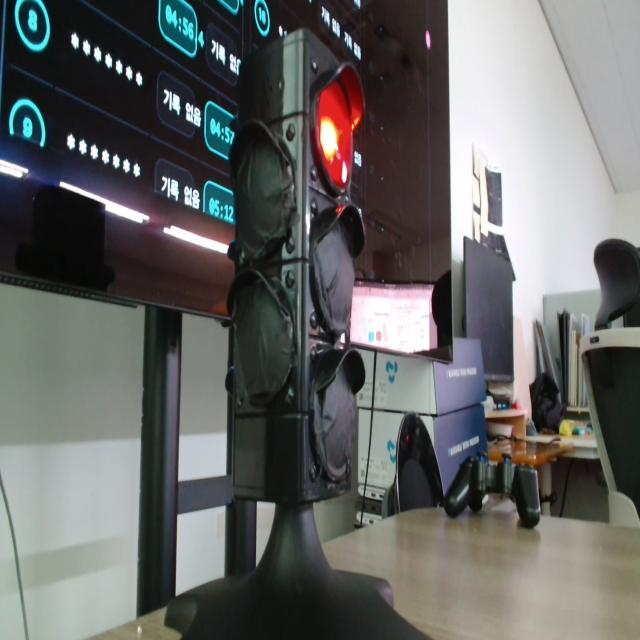red_light: (318, 81, 354, 189)
